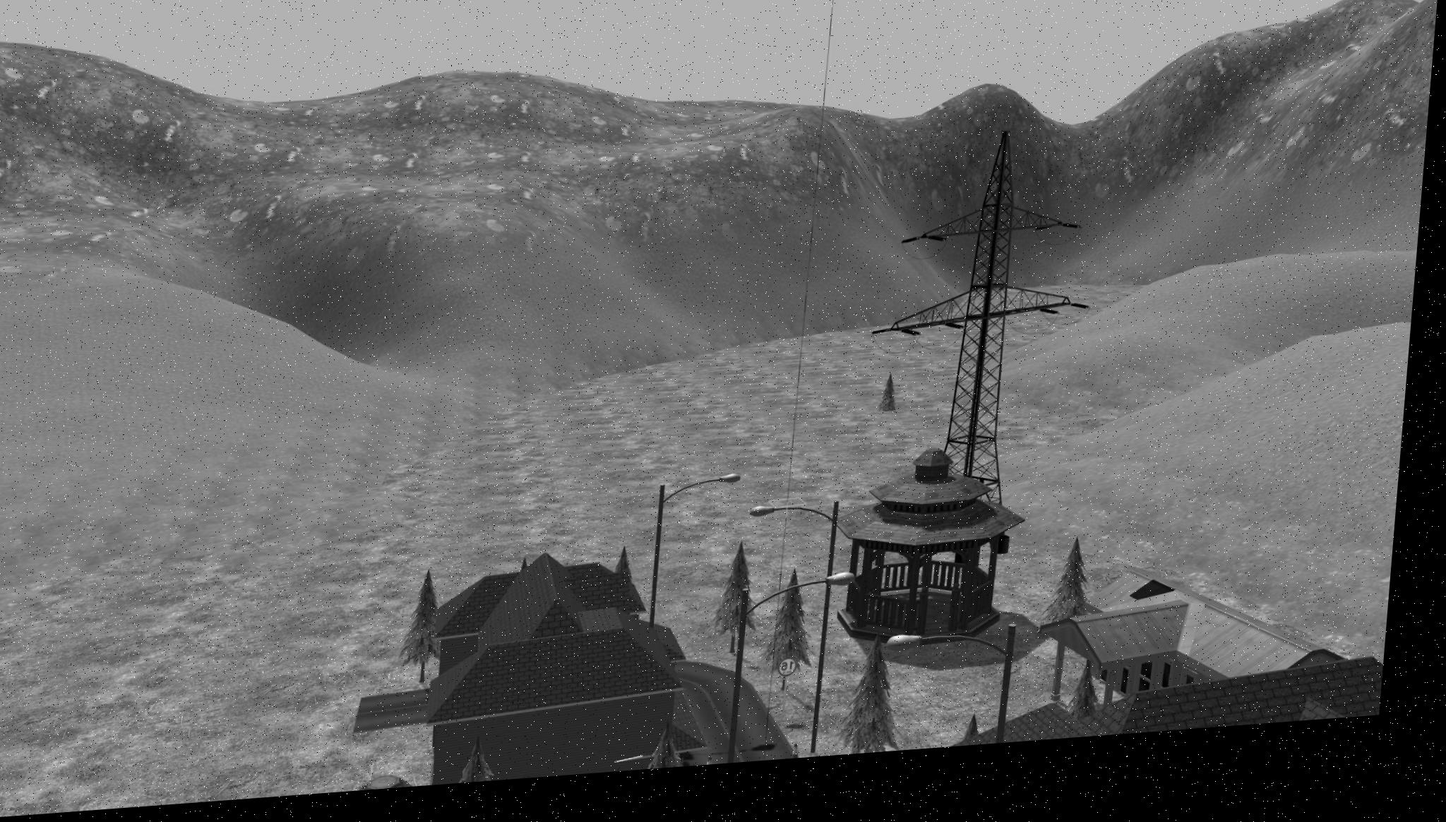tower: (882, 125, 1085, 451)
